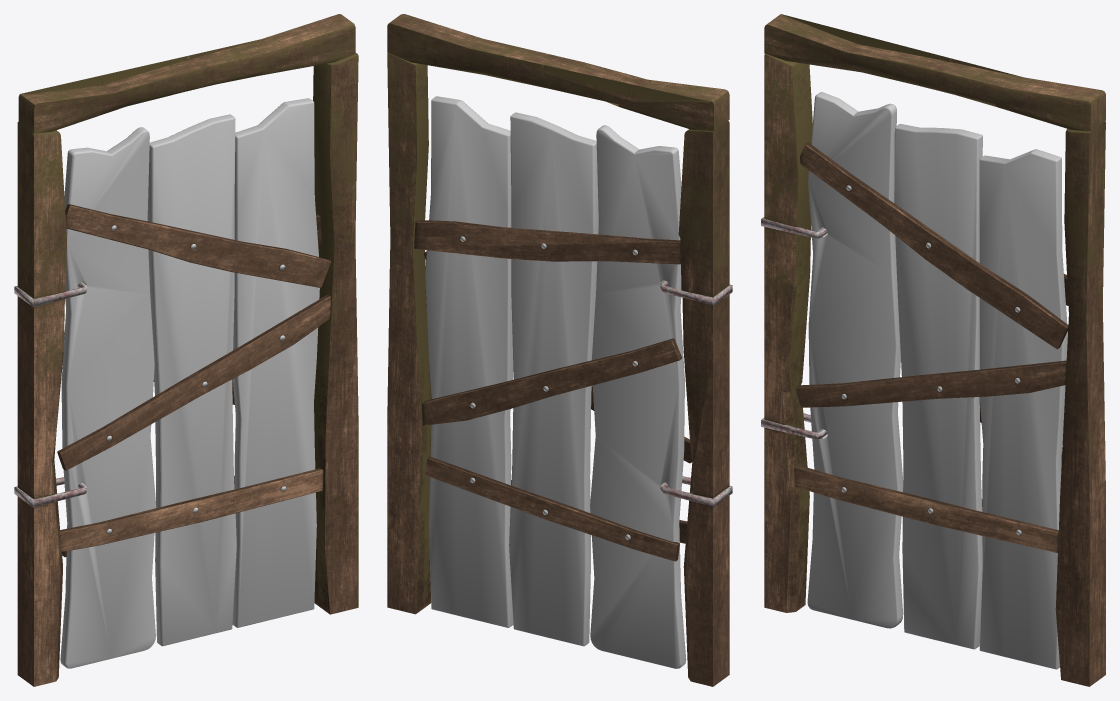
Rendered from Door_VAR02.fbx.
3 views of the same model, side by side, from view 1: azimuth 30°, elevation 25°; view 2: azimuth 150°, elevation 25°; view 3: azimuth 330°, elevation 25° (orthographic).
Parts seen in each view (by area): view 1: PuertaVar2_Cuerpo, PuertaVar2_Marco, PuertaVar2_Tablas, PuertaVar2_Herraje; view 2: PuertaVar2_Cuerpo, PuertaVar2_Marco, PuertaVar2_Tablas, PuertaVar2_Herraje; view 3: PuertaVar2_Cuerpo, PuertaVar2_Marco, PuertaVar2_Tablas, PuertaVar2_Herraje.
Part boxes in pixels (<box>): PuertaVar2_Cuerpo: <box>60,98,319,668</box>; PuertaVar2_Marco: <box>17,14,358,686</box>; PuertaVar2_Tablas: <box>57,204,331,557</box>; PuertaVar2_Herraje: <box>14,281,86,507</box>; PuertaVar2_Cuerpo: <box>425,96,686,668</box>; PuertaVar2_Marco: <box>387,14,729,686</box>; PuertaVar2_Tablas: <box>414,220,692,561</box>; PuertaVar2_Herraje: <box>660,280,732,506</box>; PuertaVar2_Cuerpo: <box>807,92,1067,669</box>; PuertaVar2_Marco: <box>764,14,1105,686</box>; PuertaVar2_Tablas: <box>794,142,1068,553</box>; PuertaVar2_Herraje: <box>761,217,827,439</box>.
Bounding box in the file's own units: 115 × 196 × 11.42.
